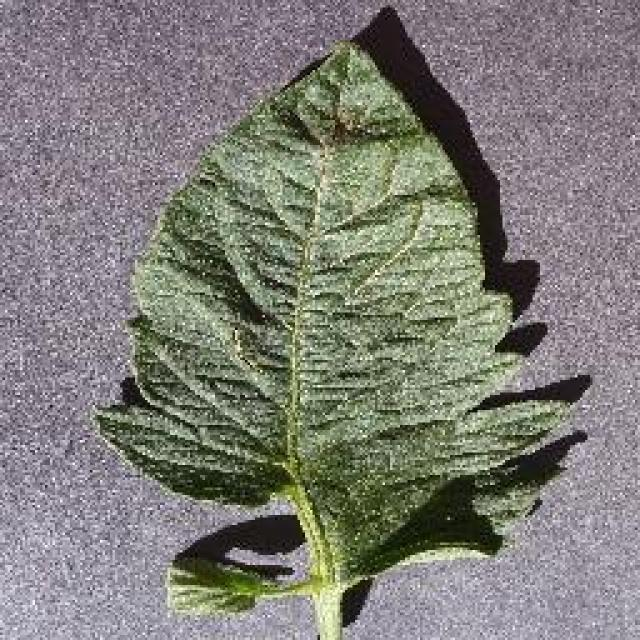Healthy: (67, 17, 597, 640)
